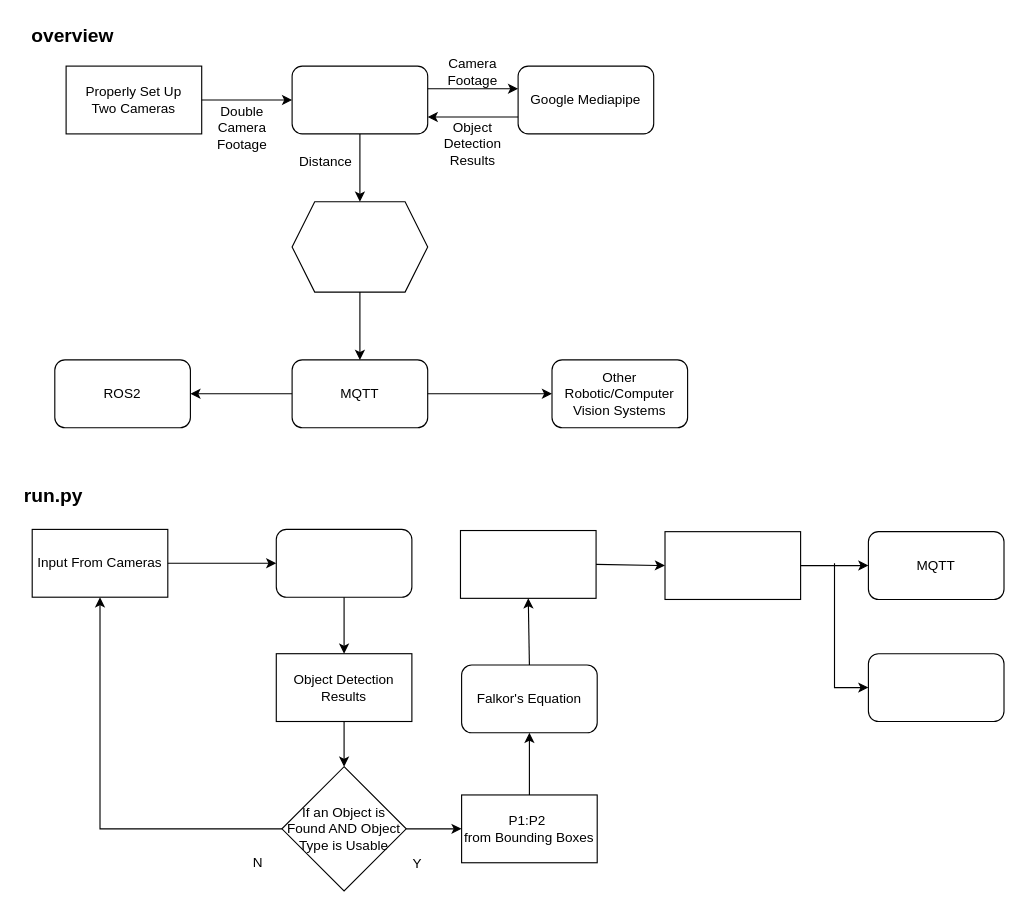
Some shapes in this 1024 by 911 pixel diagram are drawn without their labels. Here are the shapes that lost their labels. From the top down, the box of each, then its label:
(291, 65, 428, 134): Falkor
(291, 201, 428, 292): Object Location
(275, 528, 412, 597): Mediapipe
(459, 529, 596, 598): Distance from Camera One
(664, 531, 801, 599): Locale File
(867, 653, 1004, 722): Other Application
